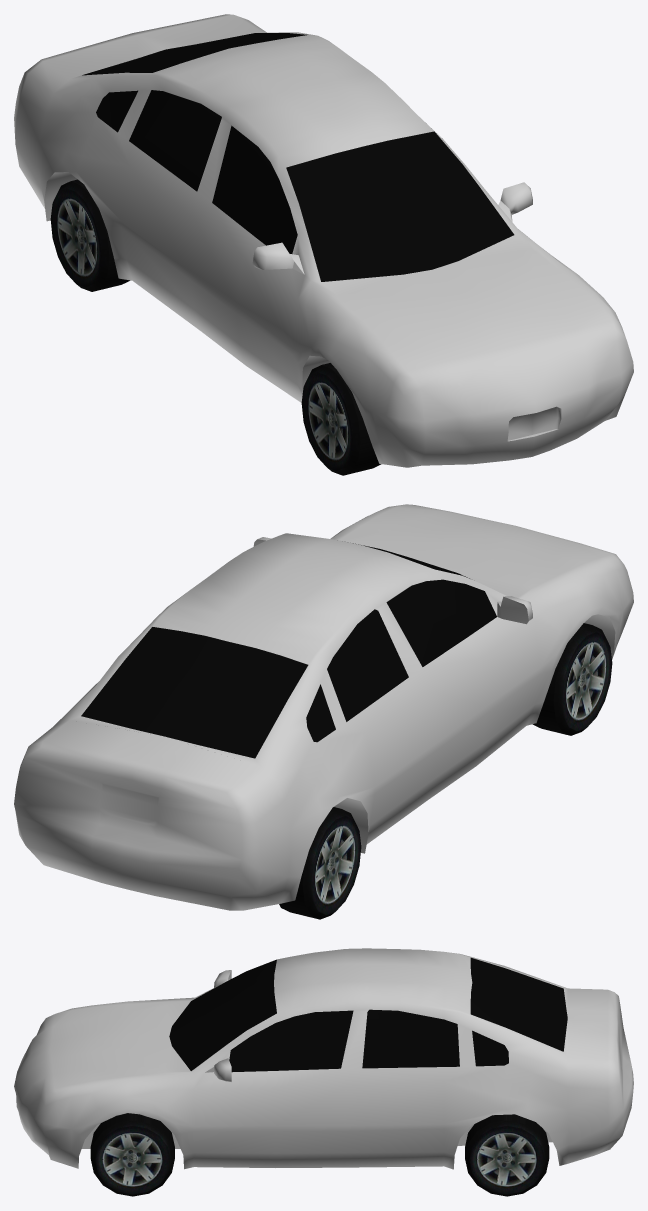
The picture shows the model from 3 angles, top to bottom: view 1: azimuth 30°, elevation 25°; view 2: azimuth 150°, elevation 25°; view 3: azimuth 270°, elevation 25°; orthographic projection. The views are drawn at different scales.
Parts seen in each view (by area): view 1: VPGreB, VPGreG, VPGreT03, VPGreT02; view 2: VPGreB, VPGreG, VPGreT03, VPGreT02; view 3: VPGreB, VPGreG, VPGreT01, VPGreT00.
Part boxes in pixels (x1,y1,x2,y2): VPGreB: (14,14,633,467); VPGreG: (82,33,514,281); VPGreT03: (301,363,380,475); VPGreT02: (50,179,130,291); VPGreB: (14,504,633,910); VPGreG: (81,543,496,758); VPGreT03: (532,623,612,735); VPGreT02: (279,807,361,919); VPGreB: (14,948,633,1169); VPGreG: (169,958,567,1072); VPGreT01: (90,1113,174,1196); VPGreT00: (465,1114,549,1196).
Size of the model in its own units: 72.26 by 59.99 by 188.
